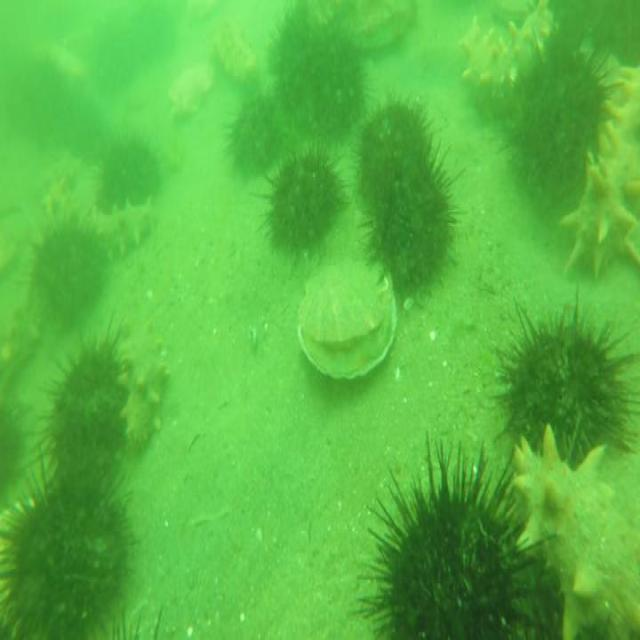echinus: (359, 422, 544, 640), (491, 283, 640, 476), (0, 463, 135, 640), (499, 33, 617, 198), (40, 318, 131, 494), (367, 153, 466, 307), (21, 205, 111, 329), (254, 149, 351, 259), (353, 92, 437, 218), (294, 28, 364, 146), (90, 126, 167, 207), (224, 95, 289, 182), (0, 381, 27, 510)
holothurian: (516, 422, 638, 638), (561, 64, 640, 274), (458, 0, 556, 112), (122, 336, 172, 448), (76, 198, 160, 262), (212, 13, 262, 87)
scallop: (294, 262, 398, 386), (166, 55, 212, 125)
